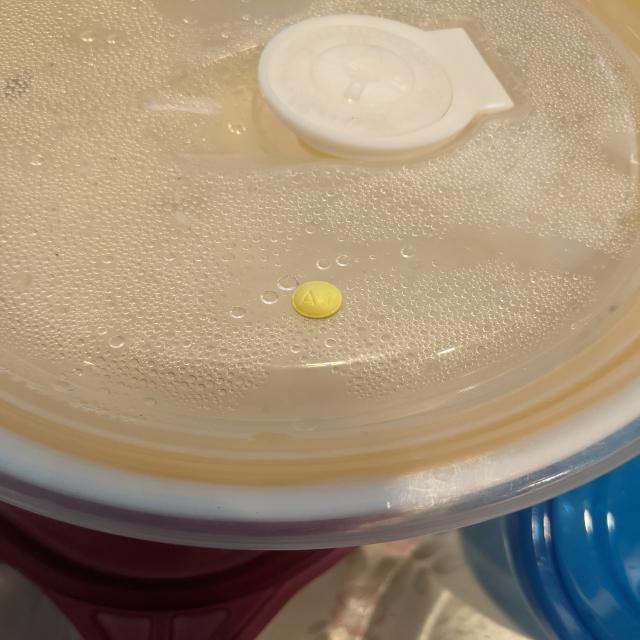non-organic waste: (291, 280, 343, 320)
